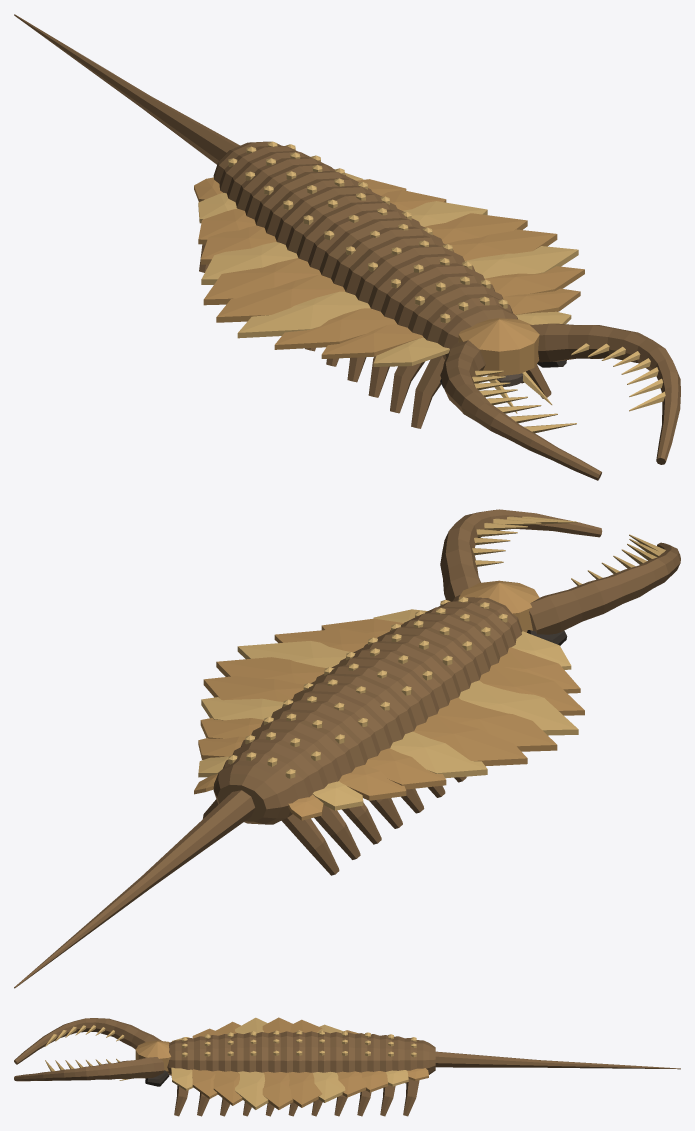
File: kerygmachela.glb
3 views of the same model, one above another, from view 1: azimuth 30°, elevation 25°; view 2: azimuth 150°, elevation 25°; view 3: azimuth 270°, elevation 25° (orthographic). The views are drawn at different scales.
Visible parts, largest first — view 1: kerygmachela-soft-single-tail; view 2: kerygmachela-soft-single-tail; view 3: kerygmachela-soft-single-tail.
Part boxes in pixels (x1,y1,x2,y2): kerygmachela-soft-single-tail: (14,14,680,480); kerygmachela-soft-single-tail: (14,509,680,988); kerygmachela-soft-single-tail: (14,1017,680,1116).
Size of the model in its own units: 0.078 by 0.0261 by 0.2446.
